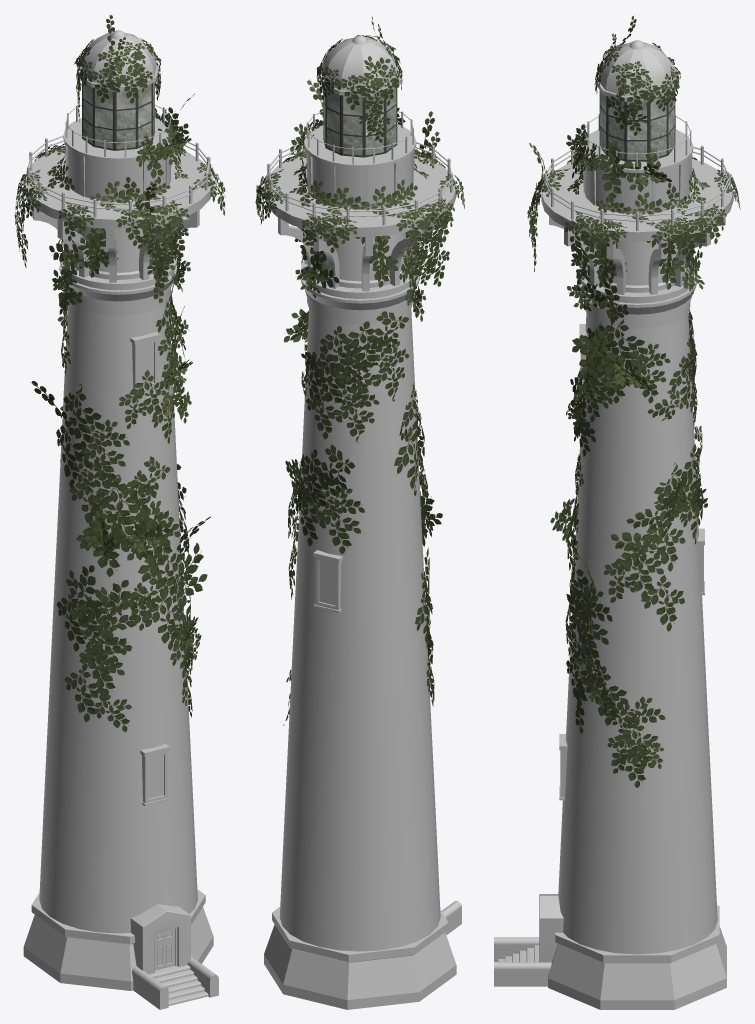
Rendered from lighthouse.fbx.
3 renders of one model, left to right at view 1: azimuth 30°, elevation 25°; view 2: azimuth 150°, elevation 25°; view 3: azimuth 270°, elevation 25°, orthographic.
Visible parts, largest first — view 1: lighthouse1, plants1; view 2: lighthouse1, plants1; view 3: lighthouse1, plants1.
Part boxes in pixels (box(x1,y1,x2,y2)): lighthouse1: box(23, 30, 218, 1009); plants1: box(14, 15, 225, 732); lighthouse1: box(264, 35, 461, 1009); plants1: box(255, 17, 464, 725); lighthouse1: box(494, 40, 733, 1009); plants1: box(527, 15, 740, 787).
Size of the model in its own units: 1545 by 7800 by 1830.
